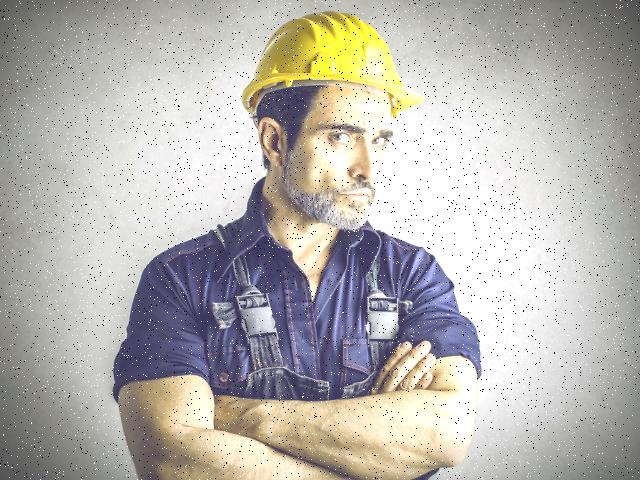Helmet: (238, 4, 432, 123)
